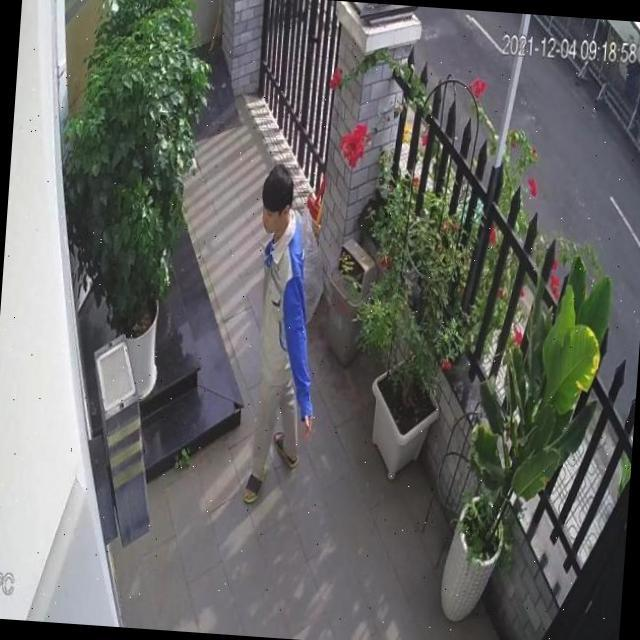person: (242, 163, 330, 506)
